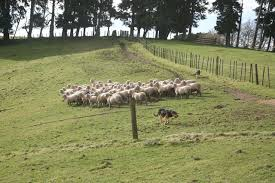sheep: (153, 83, 173, 98), (103, 93, 126, 106), (129, 89, 149, 103), (185, 81, 204, 95), (72, 83, 94, 95), (172, 85, 193, 97), (62, 93, 83, 105), (91, 92, 112, 102), (137, 84, 154, 95), (85, 93, 98, 105), (113, 89, 129, 98), (167, 76, 182, 85), (110, 82, 125, 90), (61, 86, 72, 94), (94, 86, 106, 92), (129, 81, 138, 87)
